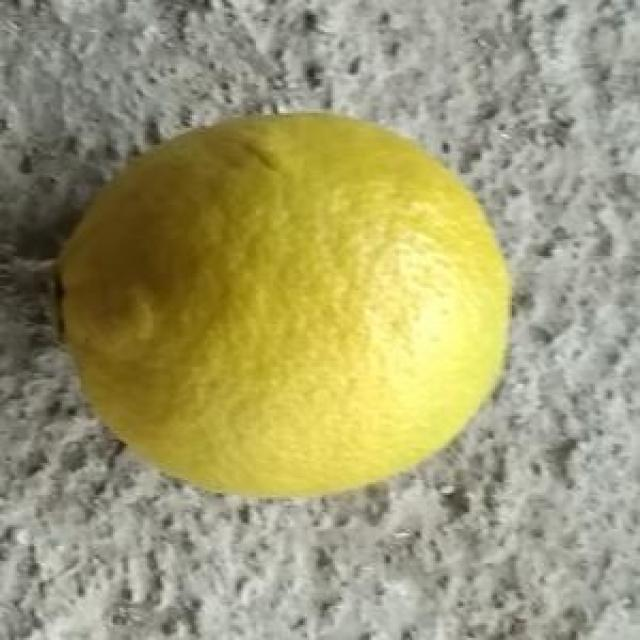lemon: (56, 108, 516, 488)
